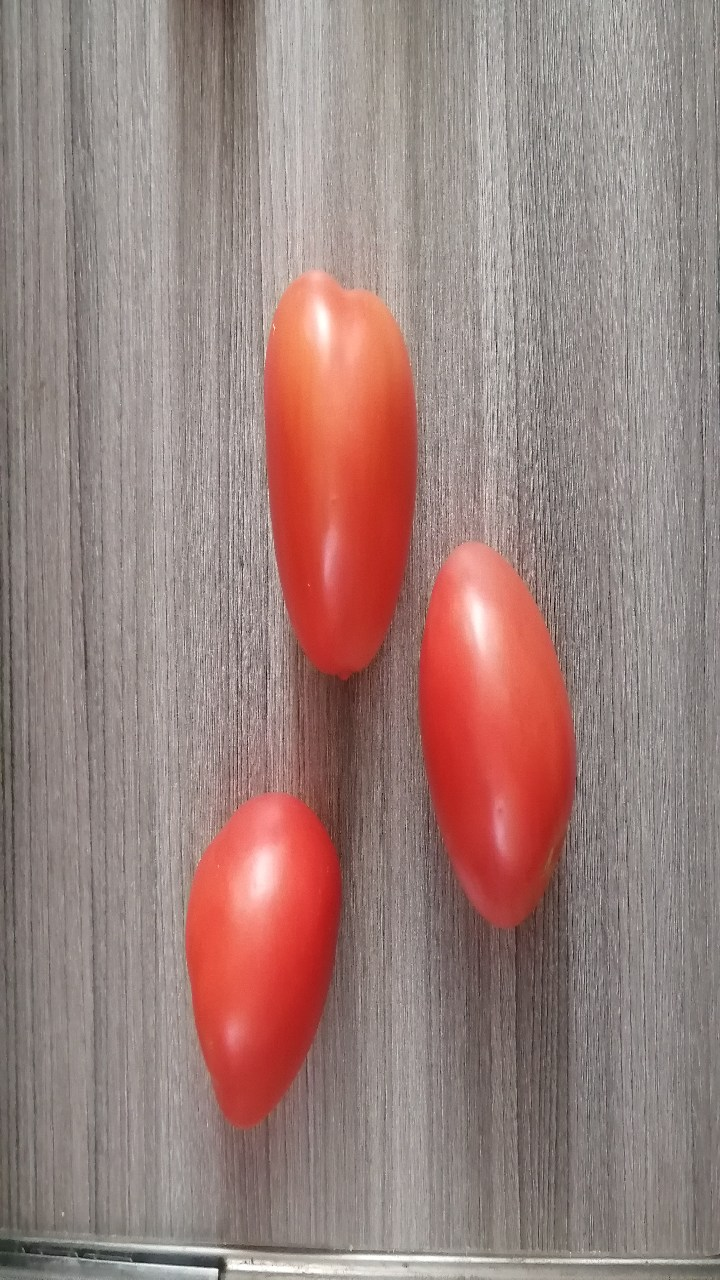tomateRojo: (228, 257, 421, 709), (394, 532, 586, 951), (161, 771, 354, 1148)
